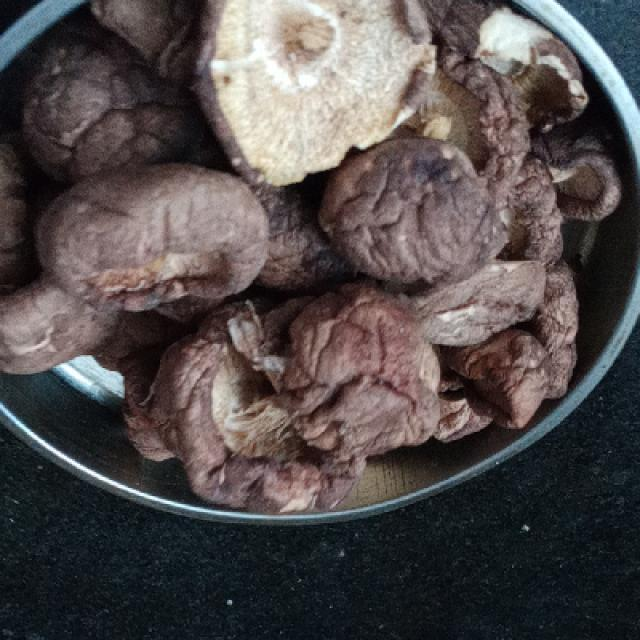Lentinus edodes: (129, 303, 444, 511), (200, 0, 438, 186), (40, 167, 271, 309), (323, 140, 496, 288)
